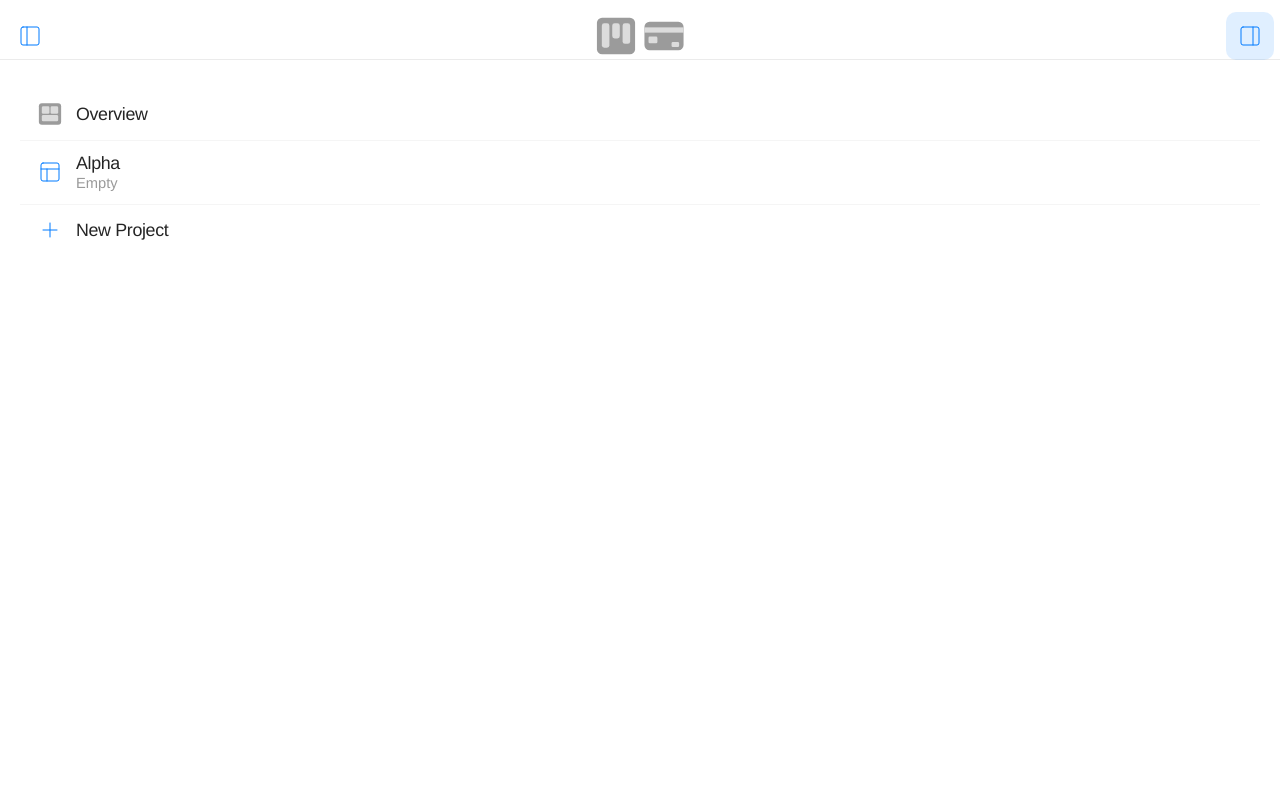
MobileWorkspace › asks for a client when creating a project
The image size is (1280, 812).
Click the button "New Project" at (122, 230), box [20, 204, 1260, 256]
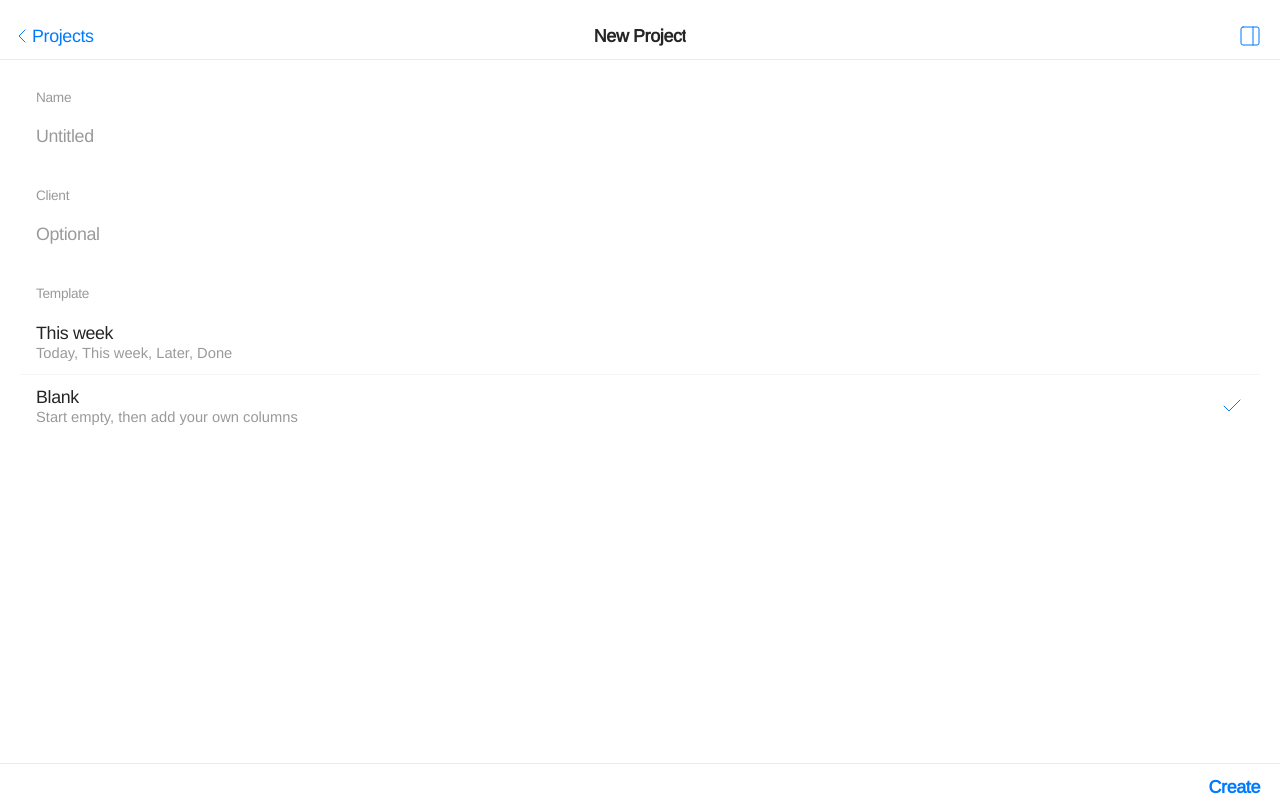
Check: the field named "Client" is shown, box [20, 212, 1260, 256]
